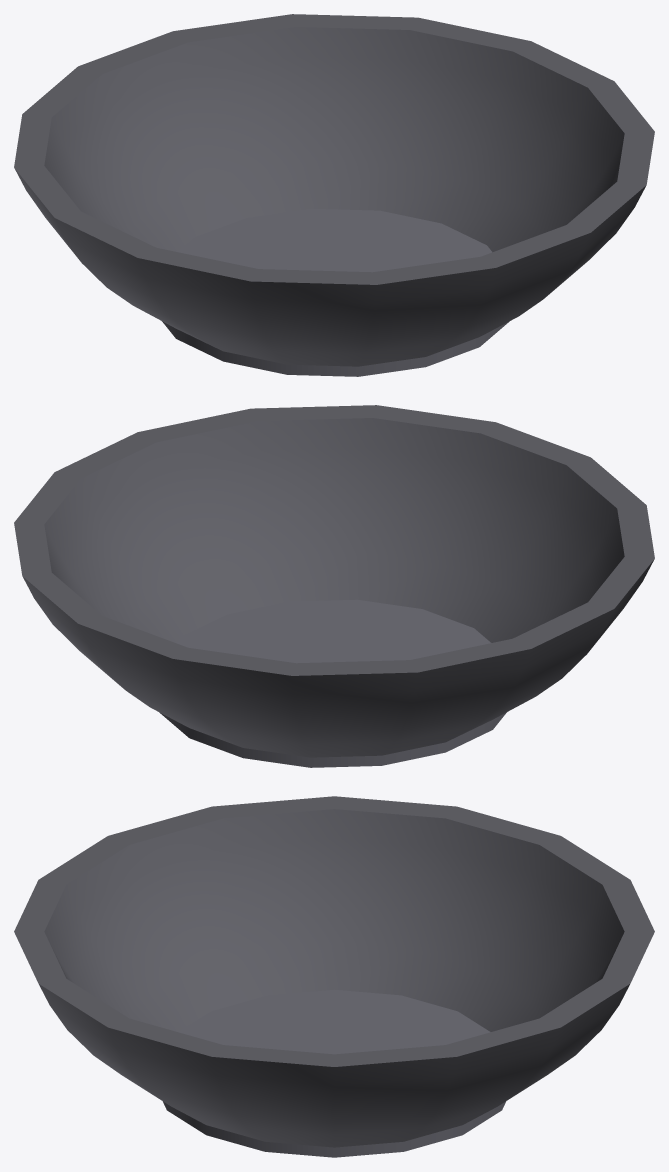
The model's file is Plate_06.glb.
The picture shows the model from 3 angles, top to bottom: view 1: azimuth 30°, elevation 25°; view 2: azimuth 150°, elevation 25°; view 3: azimuth 270°, elevation 25°; orthographic projection.
Visible parts, largest first — view 1: Plate_06_LOD0; view 2: Plate_06_LOD0; view 3: Plate_06_LOD0.
Part boxes in pixels (left/top/right/bottom): Plate_06_LOD0: left=14, top=14, right=654, bottom=376; Plate_06_LOD0: left=14, top=405, right=654, bottom=767; Plate_06_LOD0: left=14, top=796, right=654, bottom=1157.
Size of what is drawn, in the model's own units: 0.387 by 0.0995 by 0.387.
Materials: 1 (1 with a texture image).
